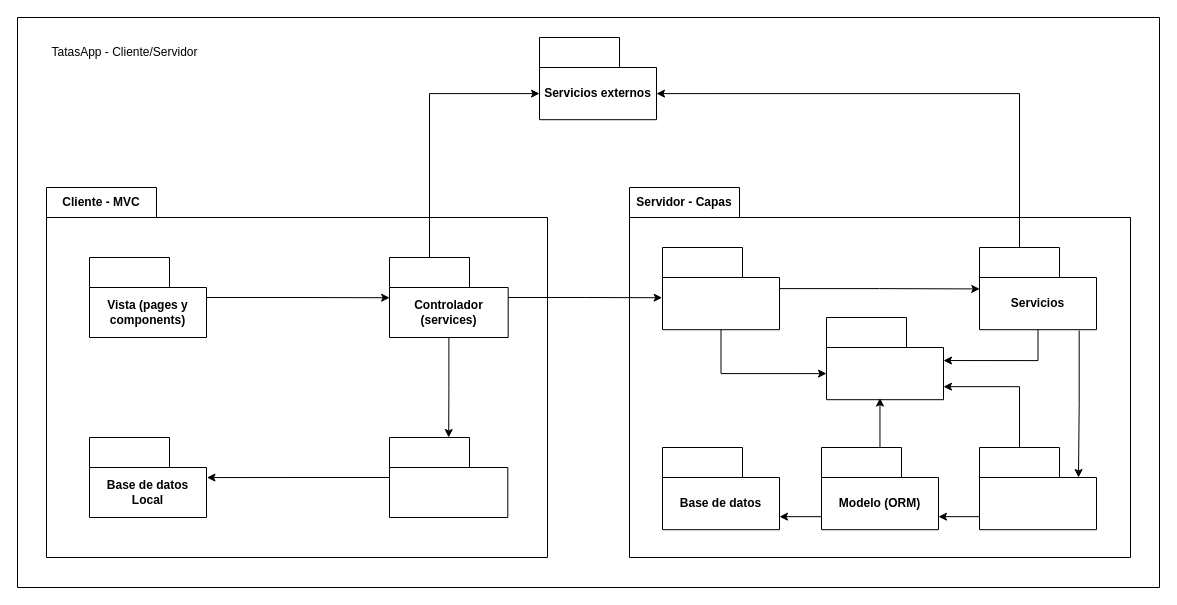
Some shapes in this 1177 by 605 pixel diagram are drawn without their labels. The centre of each missing label's shape, as x and y in pixels:
"API (rutas)" goes at [721,288].
"CRUD" goes at [1037,488].
"Modelo (interfaces)" goes at [448,477].
"Schema" goes at [885,358].
